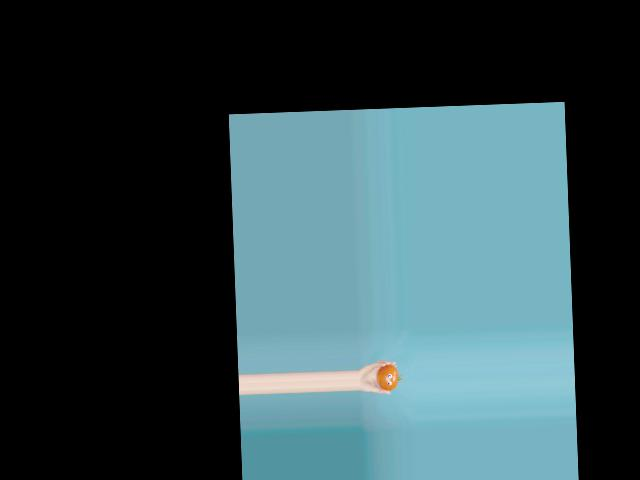tomato: (375, 364, 399, 391)
